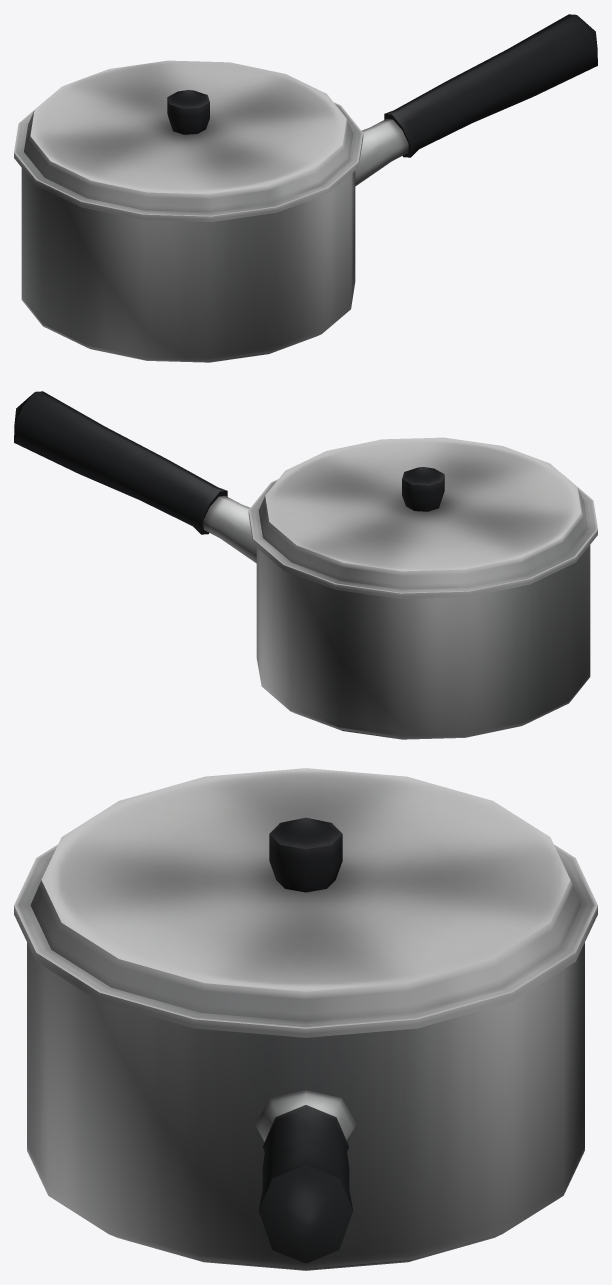
File: KR_Pot_01_02.fbx
The picture shows the model from 3 angles, top to bottom: view 1: azimuth 30°, elevation 25°; view 2: azimuth 150°, elevation 25°; view 3: azimuth 270°, elevation 25°; orthographic projection. The views are drawn at different scales.
Visible parts, largest first — view 1: pot01, lid01; view 2: pot01, lid01; view 3: pot01, lid01.
Part boxes in pixels (x1,y1,x2,y2): pot01: (21,14,597,362); lid01: (14,60,363,221); pot01: (14,391,590,739); lid01: (248,437,597,598); pot01: (27,942,584,1270); lid01: (14,768,597,1037).
Size of the model in its own units: 35.7 by 12.51 by 19.45.
